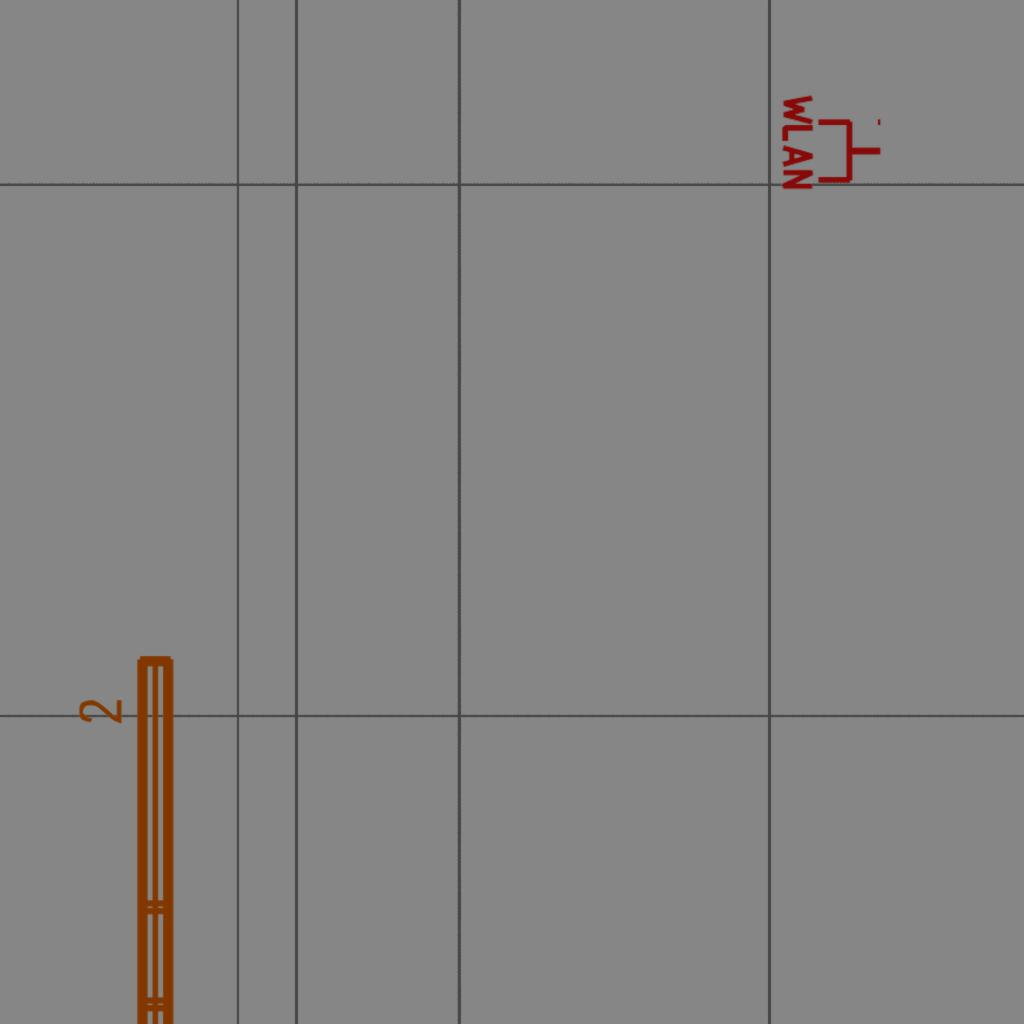Ambulanz_Pendelleuchte_LED: (74, 647, 186, 1024)
WLAN: (780, 90, 885, 194)
